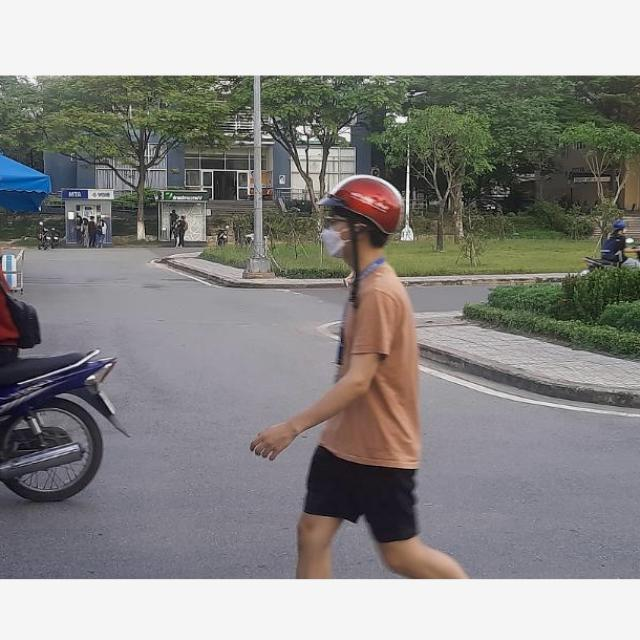Helmet: (314, 174, 406, 266)
